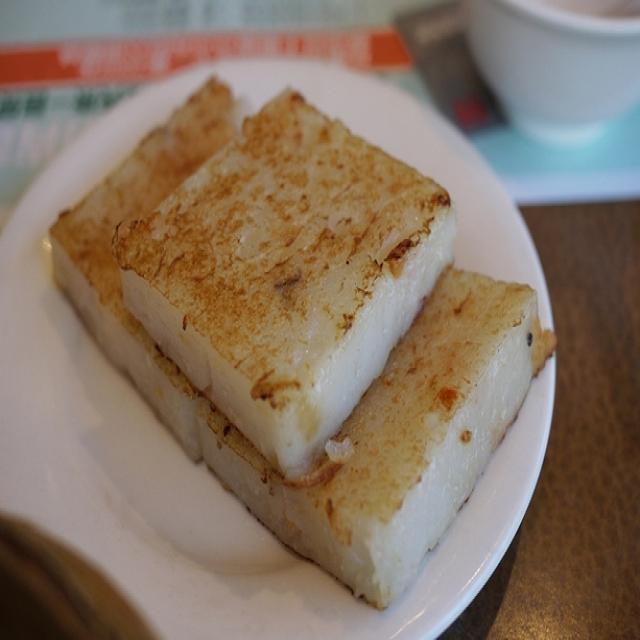蛋糕甜品: (38, 47, 569, 615)
